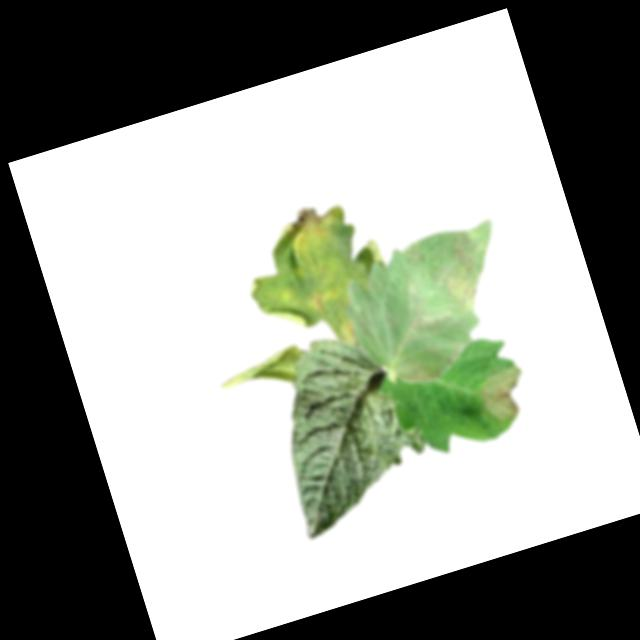Late_blight: (212, 342, 310, 403), (431, 226, 497, 316), (392, 336, 478, 391), (275, 201, 338, 259), (475, 365, 533, 425), (306, 285, 336, 317), (401, 239, 427, 270), (337, 315, 360, 349)
healthy: (252, 316, 444, 541)
